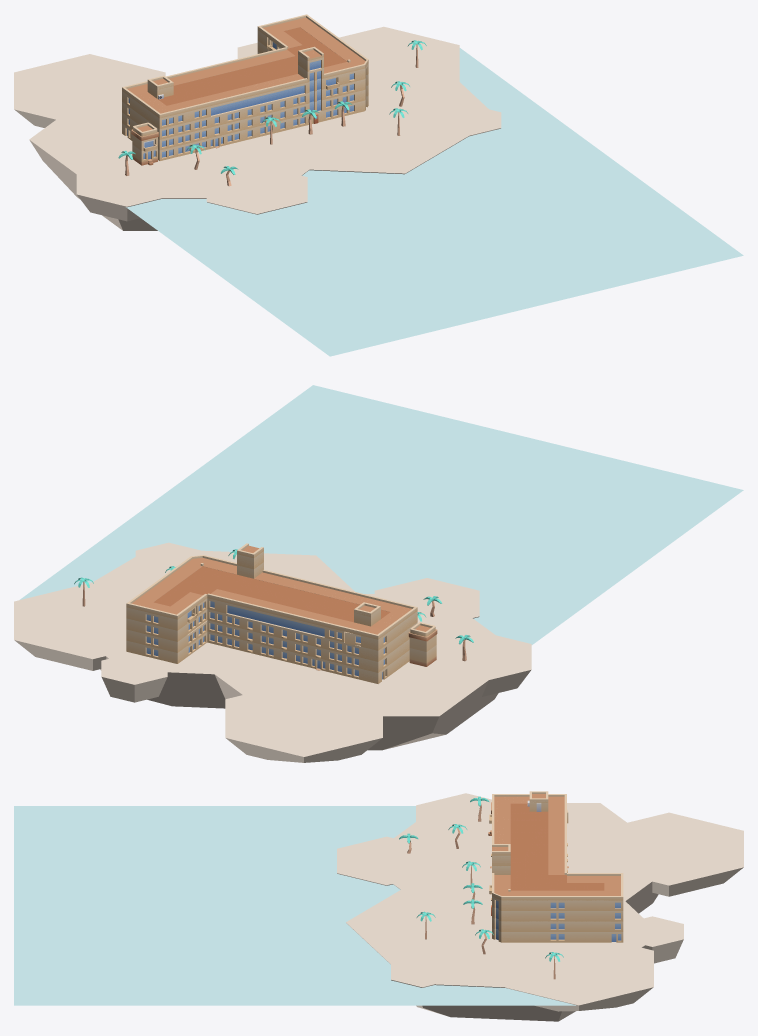
3 renders of one model, top to bottom at view 1: azimuth 30°, elevation 25°; view 2: azimuth 150°, elevation 25°; view 3: azimuth 270°, elevation 25°, orthographic. The views are drawn at different scales.
Visible parts, largest first — view 1: ground_riverOpen, platform_beach, roof-flat-top.002, roof-flat-border-side.002, roof-flat-border-side.004, building-sample-tower-b.001, roof-flat-border-side.005; view 2: ground_riverOpen, platform_beach, roof-flat-top.002, roof-flat-border-side.004, roof-flat-border-side.002, building-sample-tower-b.001, roof-flat-border-side.005; view 3: ground_riverOpen, platform_beach, roof-flat-top.002, roof-flat-border-side.004, roof-flat-border-side.005, roof-flat-border-side.002, roof-flat-top.001.
Boxes of the visible parts, left/top/right/bottom form: ground_riverOpen: left=126, top=48, right=743, bottom=356; platform_beach: left=14, top=26, right=501, bottom=230; roof-flat-top.002: left=158, top=48, right=346, bottom=105; roof-flat-border-side.002: left=167, top=74, right=307, bottom=114; roof-flat-border-side.004: left=138, top=47, right=294, bottom=91; building-sample-tower-b.001: left=131, top=122, right=158, bottom=165; roof-flat-border-side.005: left=300, top=21, right=363, bottom=61; ground_riverOpen: left=20, top=385, right=743, bottom=644; platform_beach: left=14, top=542, right=531, bottom=762; roof-flat-top.002: left=183, top=566, right=390, bottom=622; roof-flat-border-side.004: left=207, top=589, right=370, bottom=635; roof-flat-border-side.002: left=254, top=569, right=399, bottom=611; building-sample-tower-b.001: left=408, top=622, right=437, bottom=666; roof-flat-border-side.005: left=136, top=560, right=202, bottom=602; ground_riverOpen: left=14, top=806, right=575, bottom=1005; platform_beach: left=337, top=793, right=743, bottom=1021; roof-flat-top.002: left=510, top=803, right=549, bottom=890; roof-flat-border-side.004: left=548, top=802, right=566, bottom=874; roof-flat-border-side.005: left=510, top=890, right=604, bottom=900; roof-flat-border-side.002: left=492, top=802, right=510, bottom=843; roof-flat-top.001: left=548, top=882, right=604, bottom=890.
Size of the model in its own units: 26.8 by 6.41 by 38.94.
186 materials, 166 textured.
